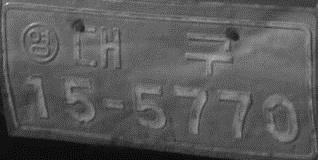-: (99, 92, 128, 116)
0: (261, 93, 298, 143)
1: (19, 72, 54, 119)
5: (62, 76, 96, 123), (133, 84, 167, 130)
7: (217, 87, 253, 138), (173, 84, 207, 134)
대구_D: (70, 22, 232, 74)
영: (19, 20, 60, 64)
